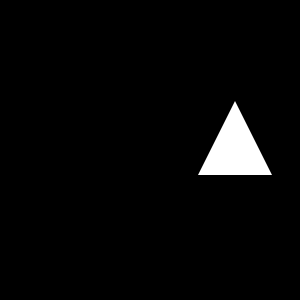triangle: (198, 101, 272, 175)
